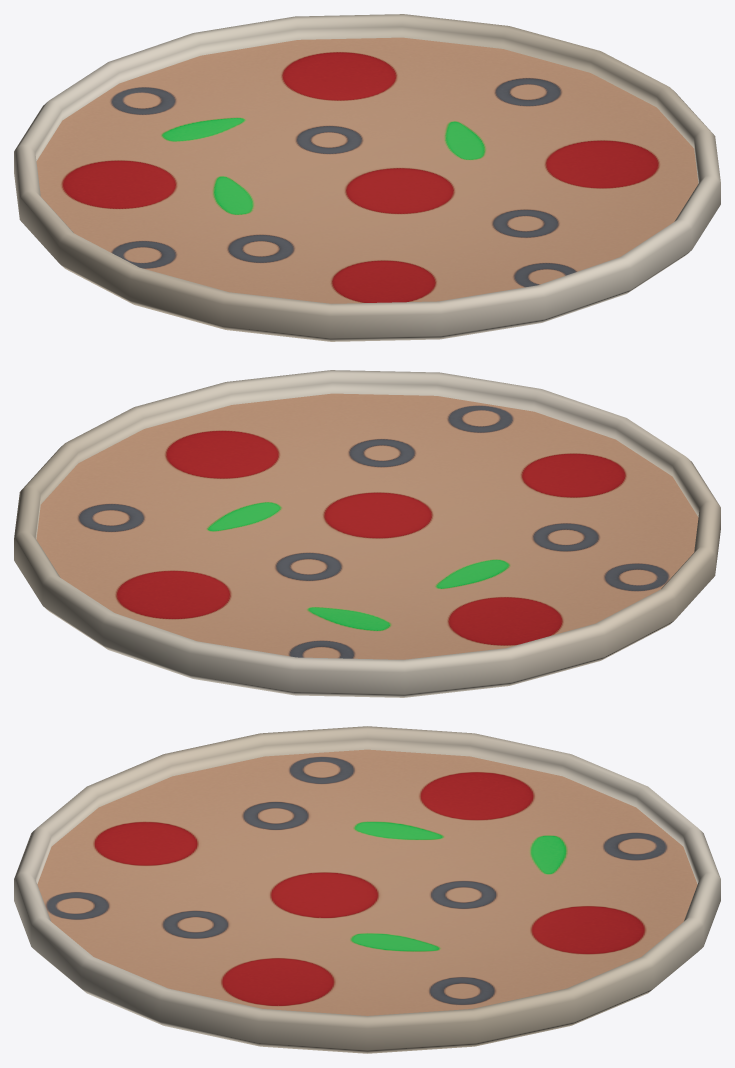
The model's file is PizzaC_Rev2_geo.fbx.
3 views of the same model, one above another, from view 1: azimuth 30°, elevation 25°; view 2: azimuth 150°, elevation 25°; view 3: azimuth 270°, elevation 25° (orthographic).
Parts seen in each view (by area): view 1: PizzaC_Rev2_geo; view 2: PizzaC_Rev2_geo; view 3: PizzaC_Rev2_geo.
Boxes of the visible parts, <box> form: PizzaC_Rev2_geo: <box>14,14,720,341</box>; PizzaC_Rev2_geo: <box>14,370,720,697</box>; PizzaC_Rev2_geo: <box>14,726,720,1053</box>.
Size of the model in its own units: 39 by 2.09 by 39.
1 material, 1 textured.
